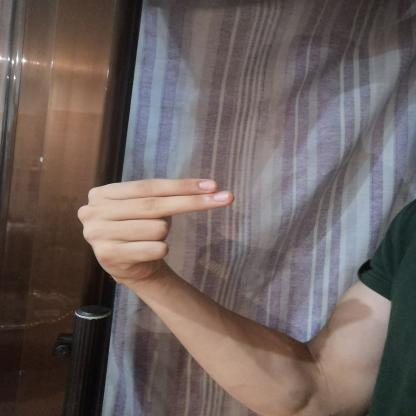AYN: (56, 165, 254, 292)
